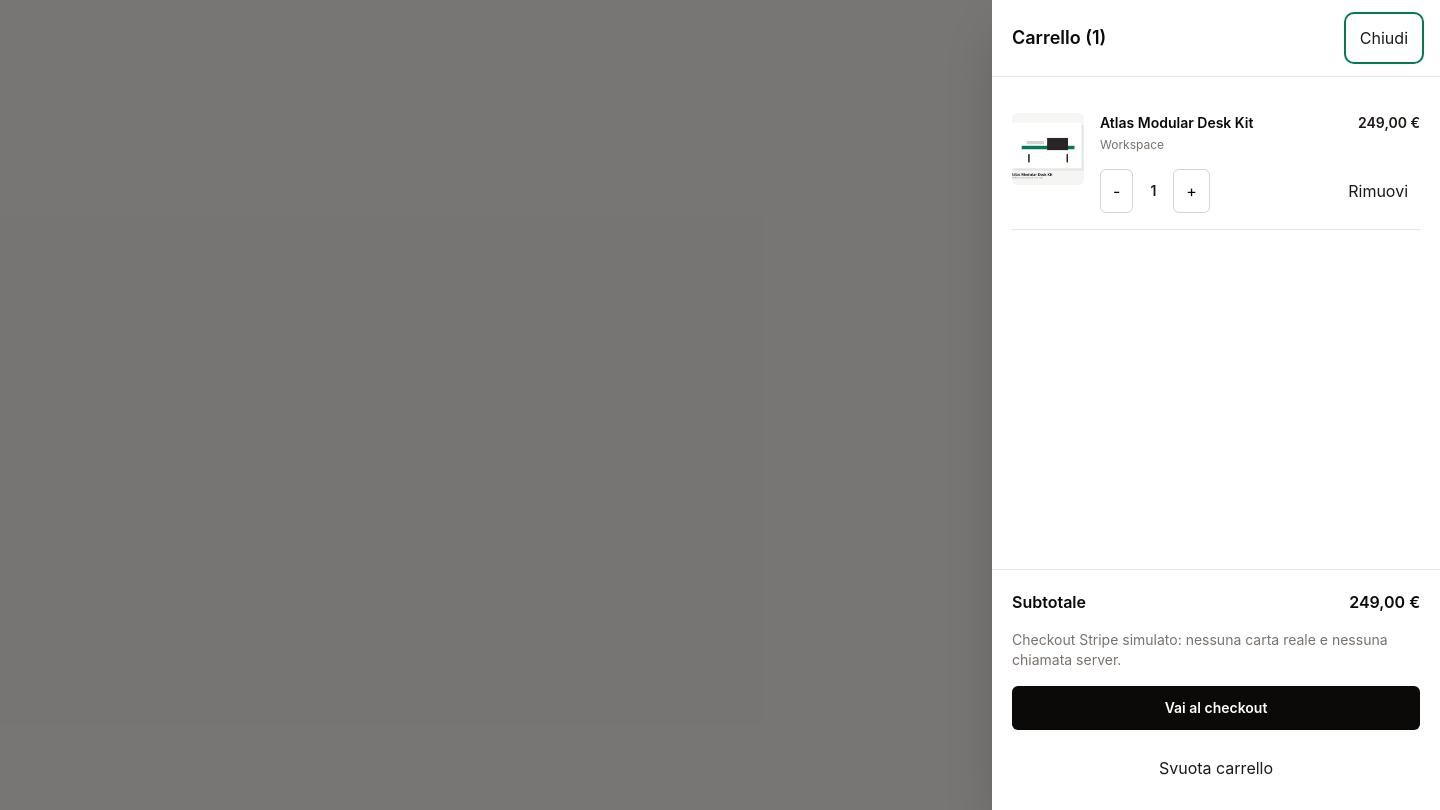
Test: CartDrawer › renders line items, subtotal, and quantity controls
Check: the heading "Atlas Modular Desk Kit" is shown, box [1100,113,1253,133]
What coordinates should you click on to do the following:
click the button "+"
I would click on:
 (1192, 191)
Its box is [1173,169,1210,213].
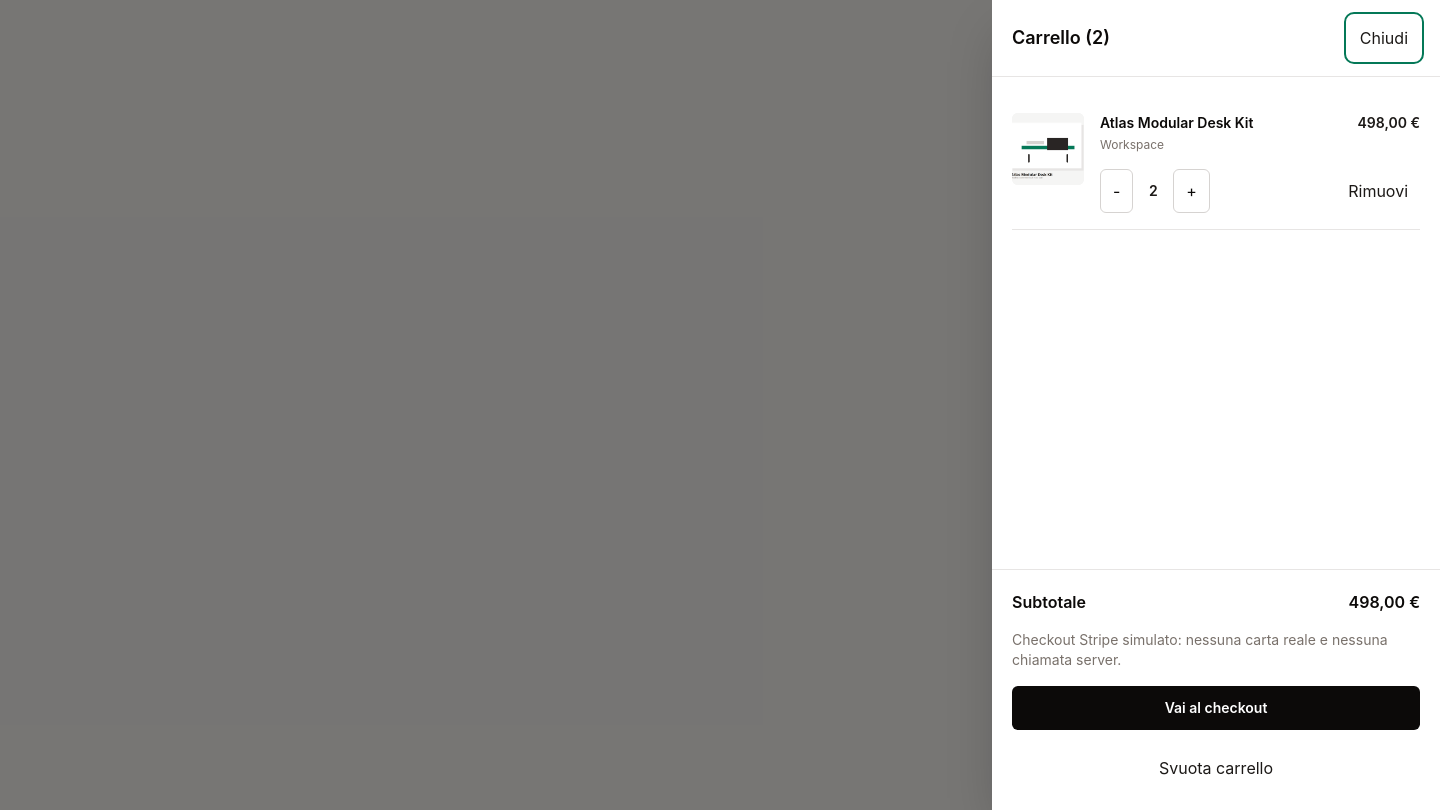
Check: the dialog "Carrello (2)" is shown, box [992,0,1439,809]
